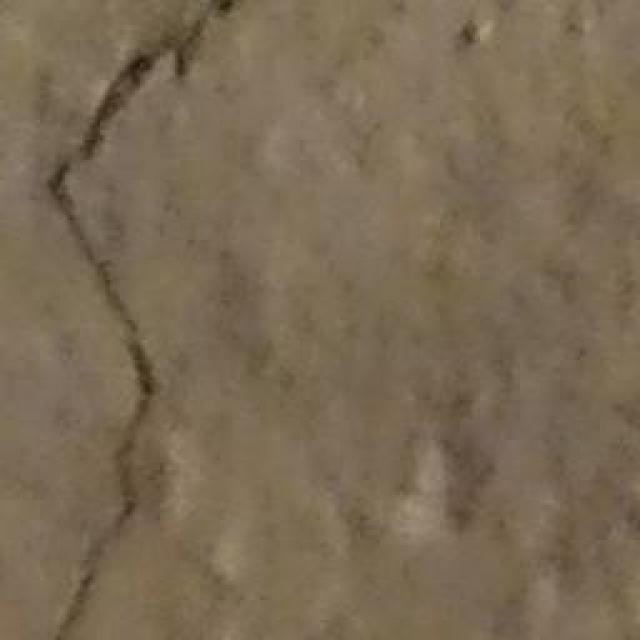Longitudinal: (29, 0, 218, 640)
